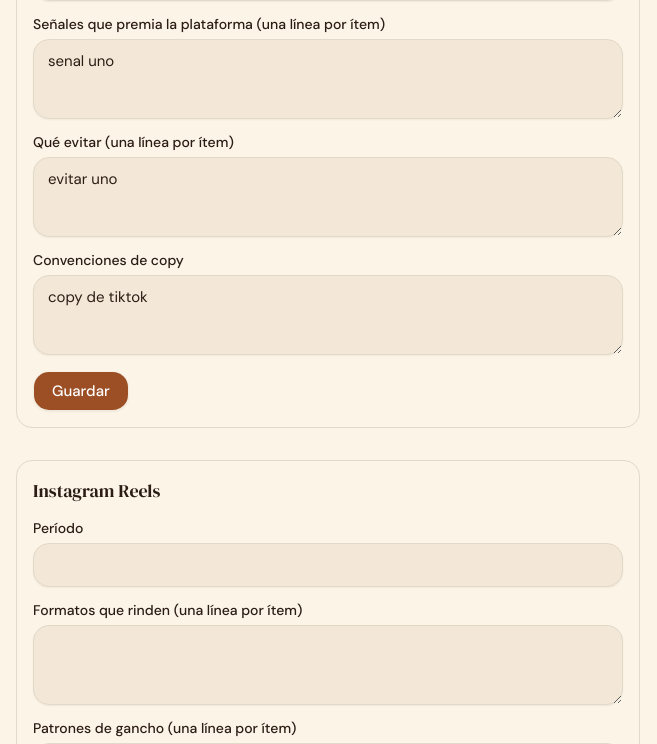
AdminPage › shows a recoverable error when saving fails
(page scrolled)
Click the button "Guardar".
click(81, 391)  # box [33, 371, 129, 411]
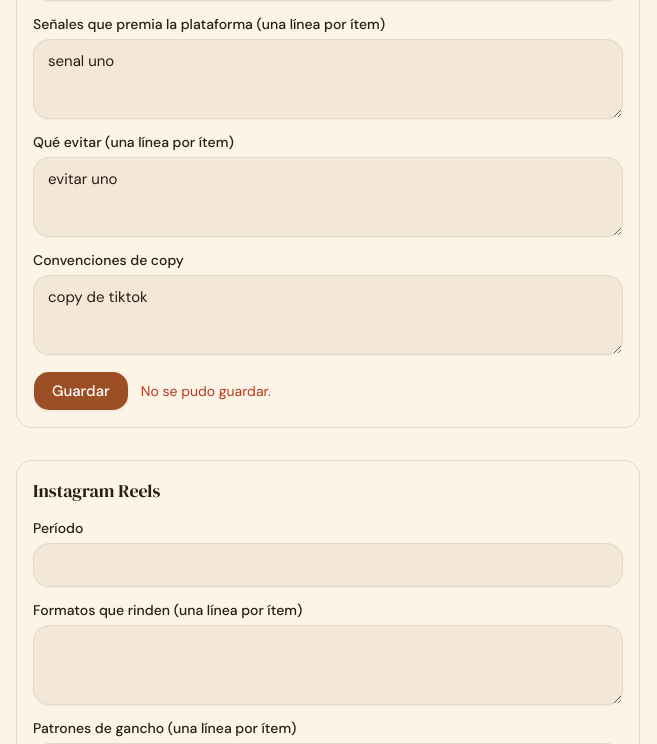
Check: the text "No se pudo guardar." is shown, box [141, 381, 271, 401]
